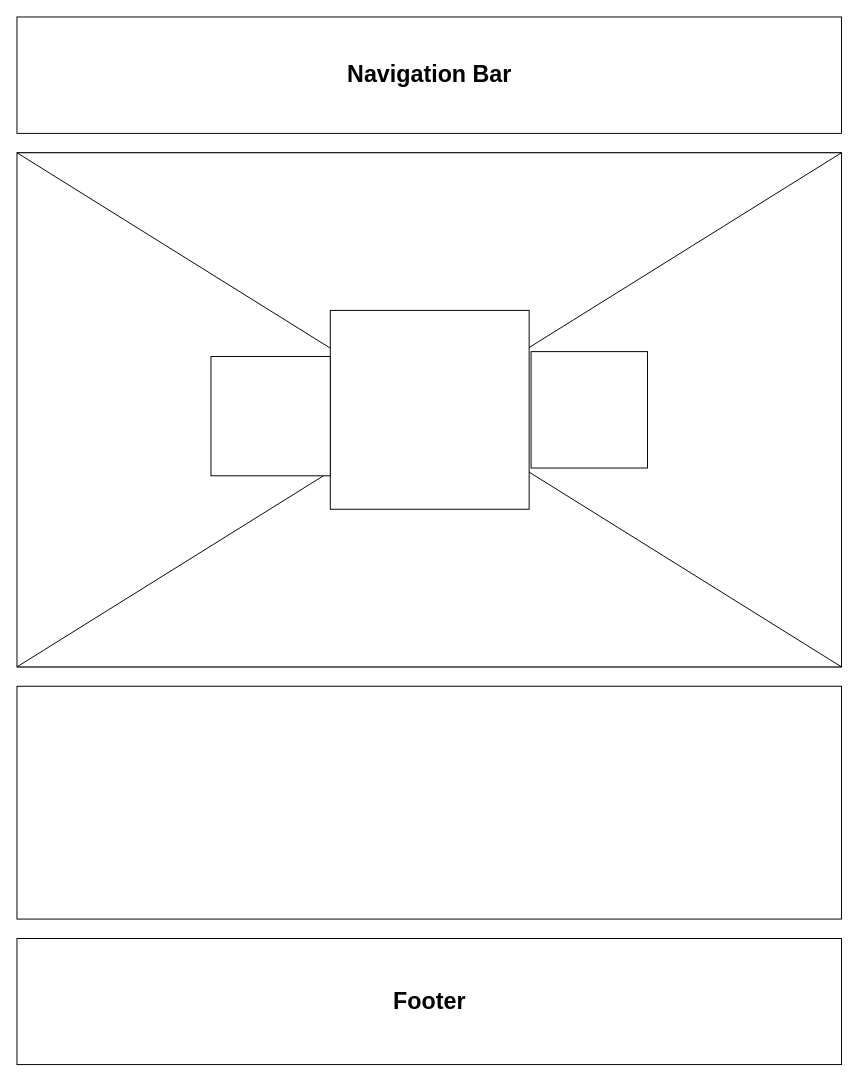
Some shapes in this 858 by 1082 pixel diagram are drawn without their labels. Here are the shapes that lost their labels. From the top down, the box of each, then its label:
(329, 309, 529, 509): Carousel Images
(16, 685, 841, 919): Greeting
